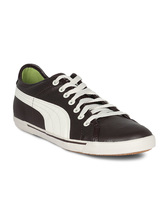shoes: (8, 60, 160, 159)
